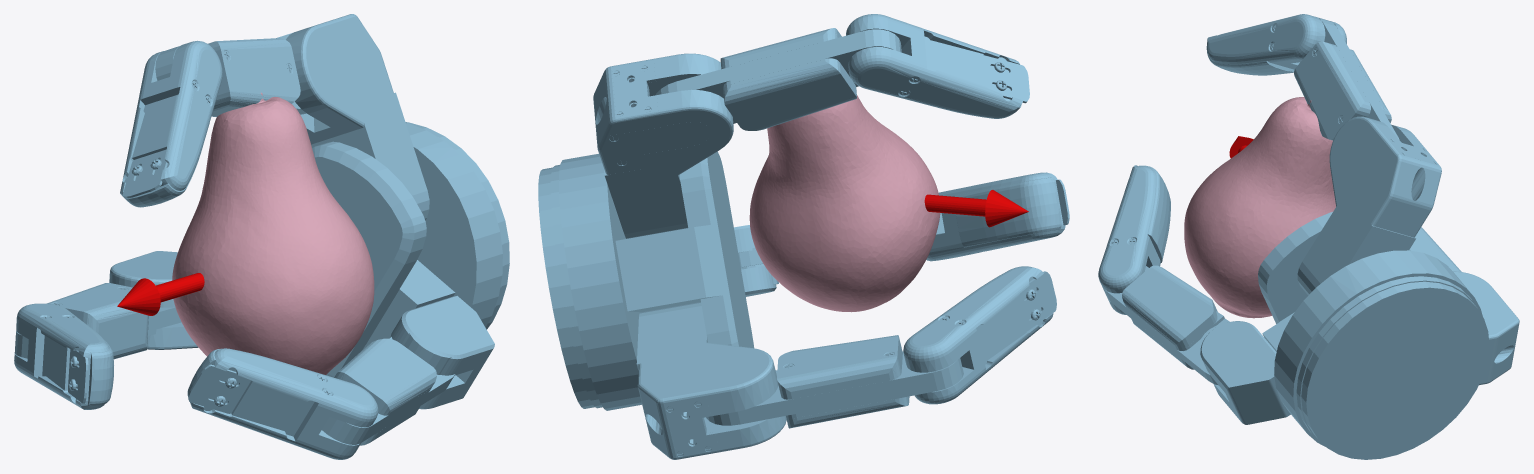
3 views of the same model, side by side, from view 1: azimuth 30°, elevation 25°; view 2: azimuth 150°, elevation 25°; view 3: azimuth 270°, elevation 25° (orthographic). The views are drawn at different scales.
Parts seen in each view (by area): view 1: world, pear.stl; view 2: world, pear.stl; view 3: world, pear.stl.
Part boxes in pixels (<box>): world: <box>14,14,509,459</box>; pear.stl: <box>172,92,374,374</box>; world: <box>538,14,1069,459</box>; pear.stl: <box>749,95,940,312</box>; world: <box>1098,14,1519,459</box>; pear.stl: <box>1184,97,1335,318</box>.
Size of the model in its own units: 0.1833 by 0.1564 by 0.1735.
